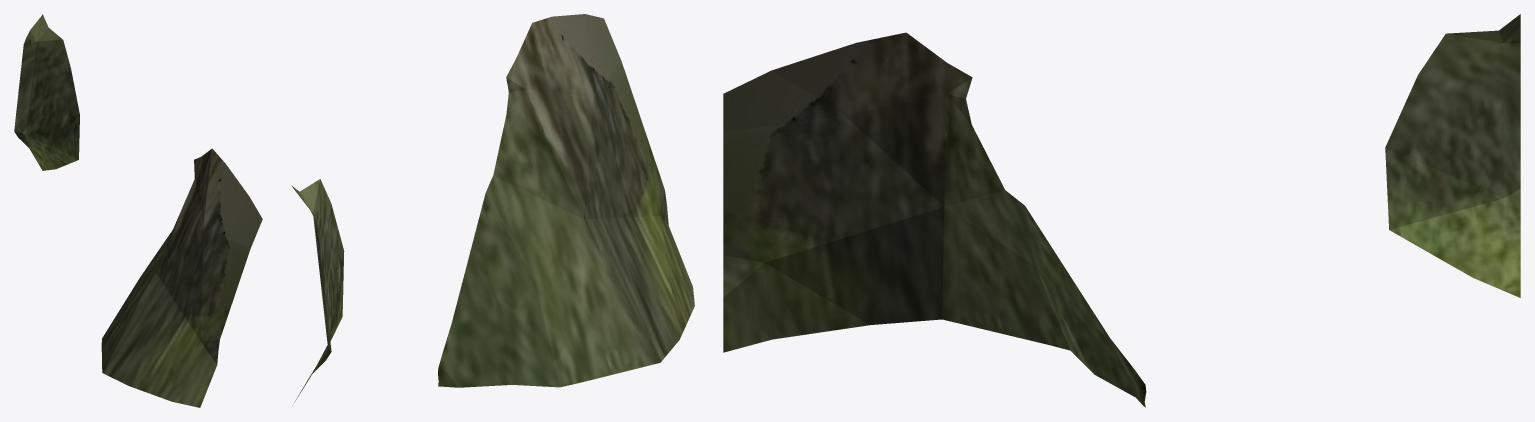
3 renders of one model, left to right at view 1: azimuth 30°, elevation 25°; view 2: azimuth 150°, elevation 25°; view 3: azimuth 270°, elevation 25°, orthographic. The views are drawn at different scales.
Bounding box in the file's own units: 0.7748 × 1.61 × 2.95.
1 material, 1 textured.
